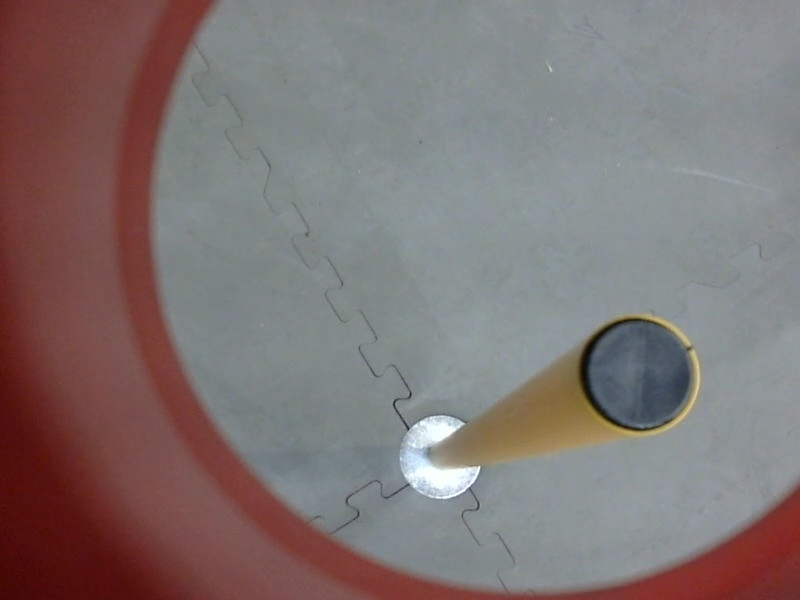tip: (567, 301, 706, 446)
